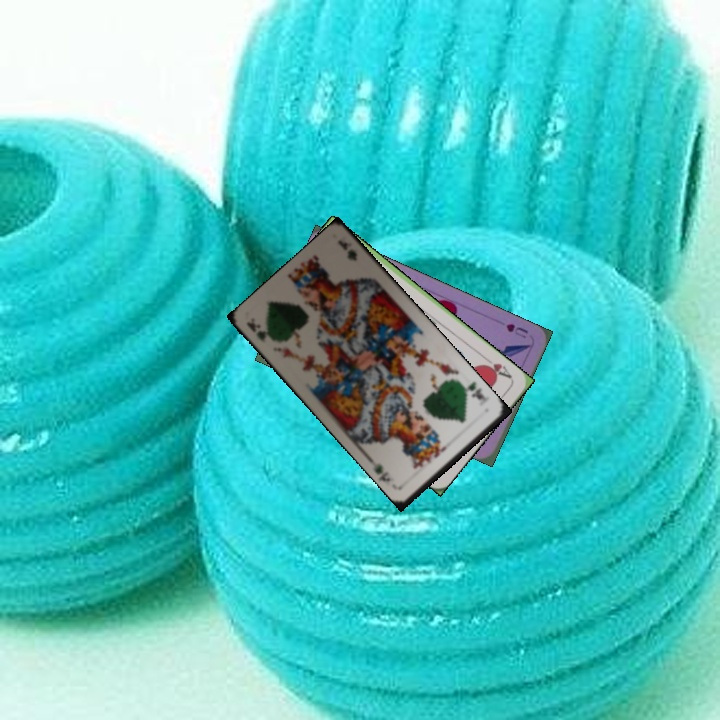GK: (243, 314, 271, 343), (457, 378, 488, 403)
HA: (479, 359, 514, 381)
HU: (502, 319, 531, 341)
